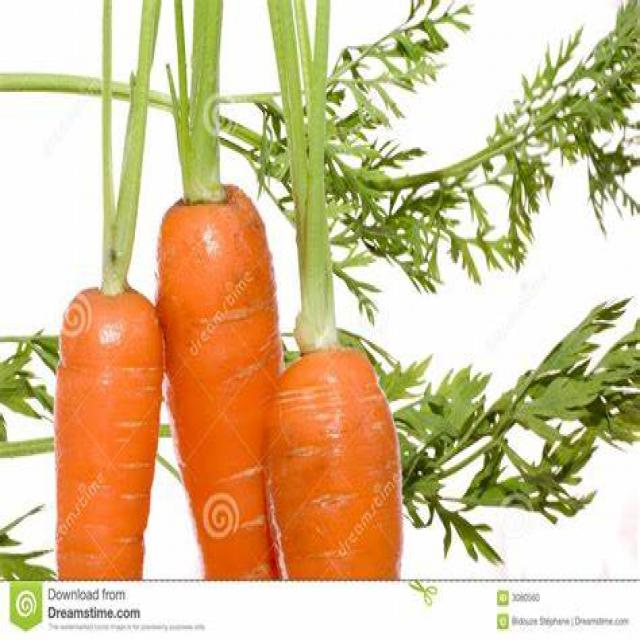Carrot: (156, 188, 284, 580), (54, 291, 168, 590), (271, 351, 409, 591)
